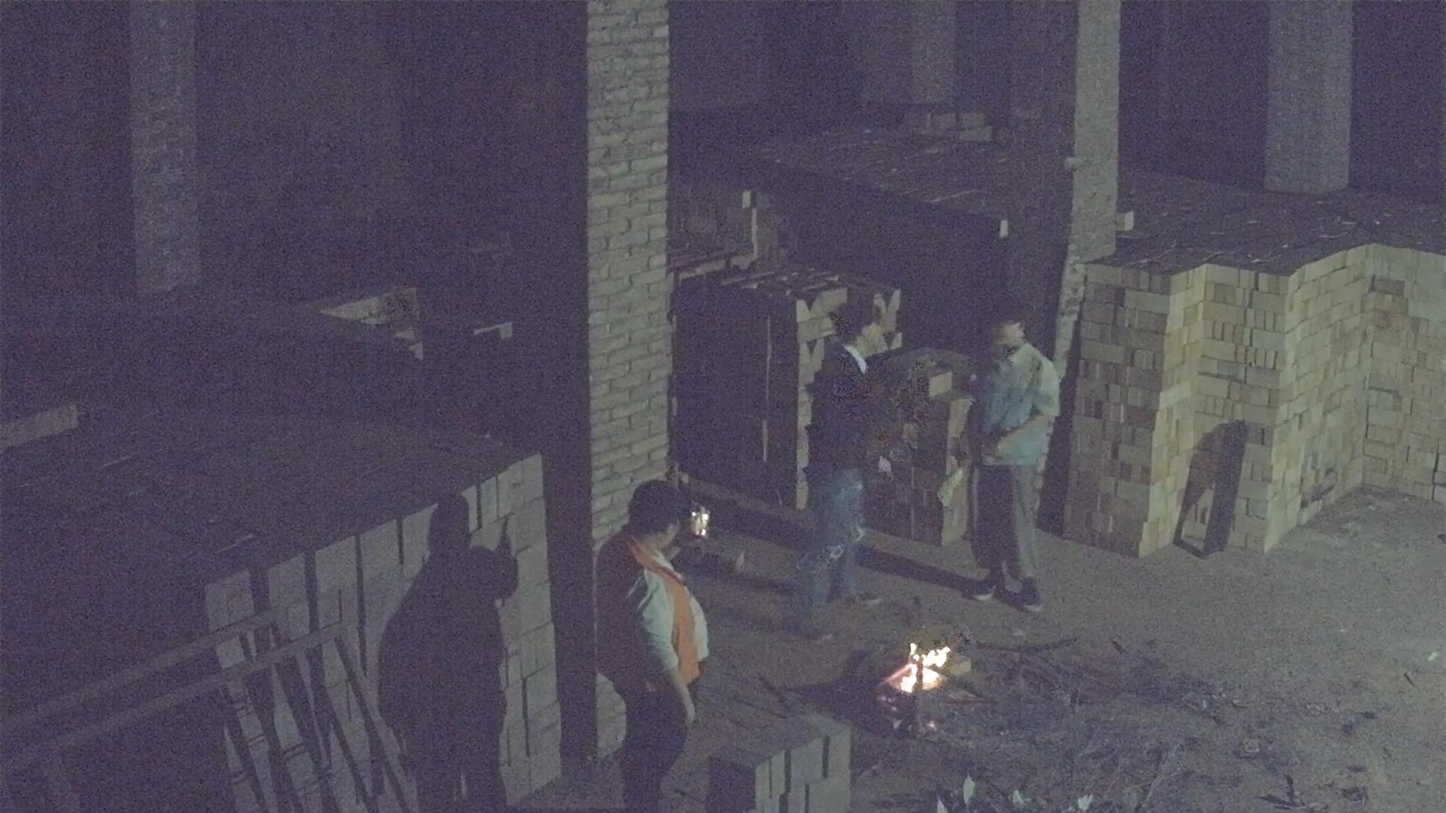fire: (886, 643, 951, 695)
